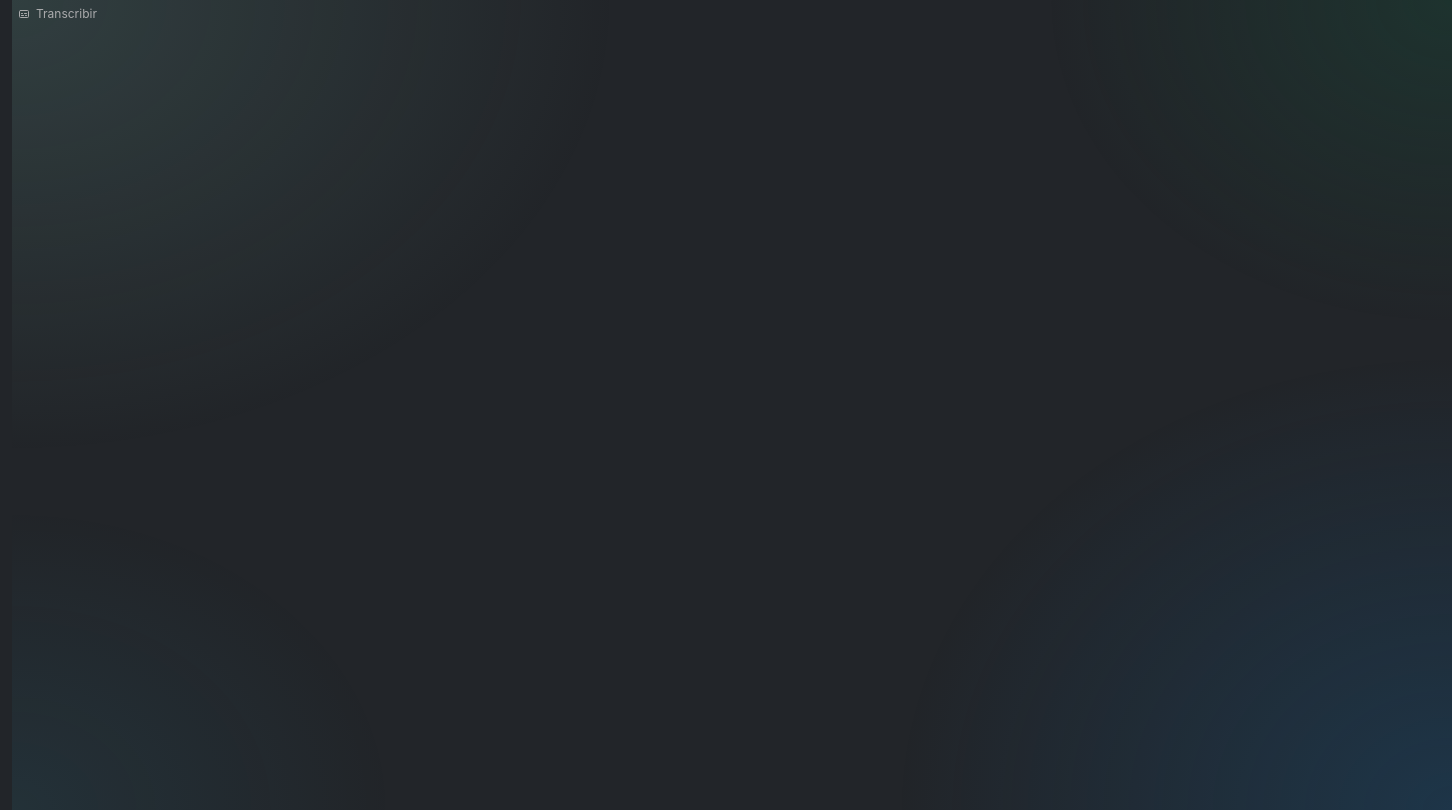
it: a voice message's transcript (Phase 58) › waits and asks again while someone else's request is transcribing it
Click the button with aria-label "Transcribir el audio": (57, 14) [12,4,103,24]
Wait 2500 ms
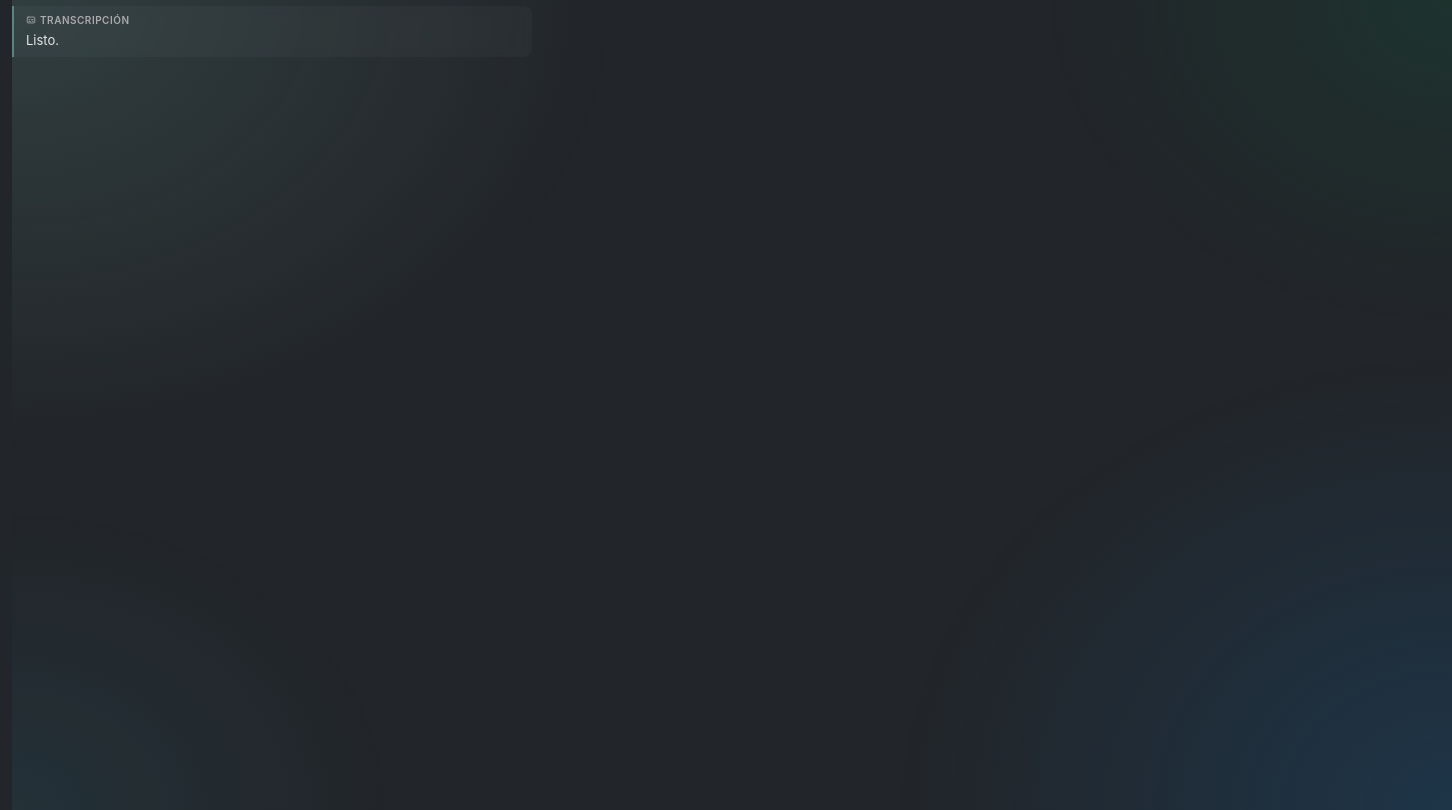
Check: the element named "Transcripción del audio" shows "Listo.", box [26,32,59,48]
